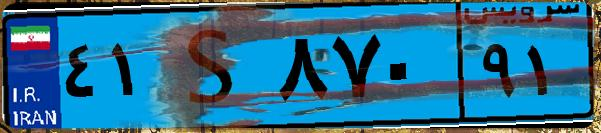0: (385, 28, 445, 110)
1: (525, 38, 570, 115), (110, 28, 158, 98)
4: (57, 26, 110, 100)
7: (330, 28, 385, 110)
8: (270, 28, 330, 110)
9: (475, 38, 525, 113)
S: (158, 12, 270, 120)
